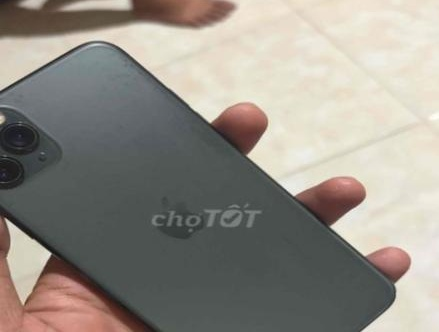scratch: (99, 55, 245, 153), (256, 224, 343, 285), (0, 86, 40, 120), (0, 183, 24, 217), (169, 318, 206, 332)
